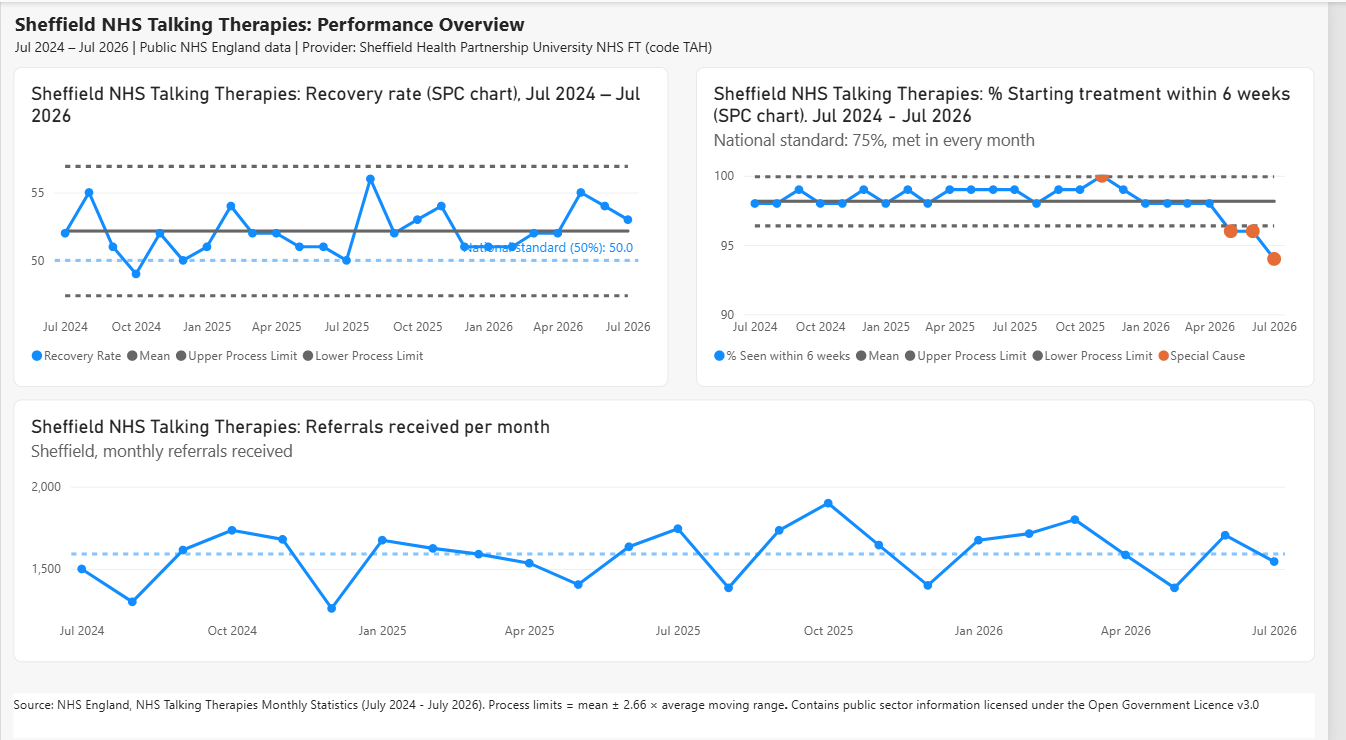

The page's visual inventory and layout, read from the dashboard file:
{"tool":"powerbi","page":{"name":"Dashboard","canvas":[1280,720],"ordinal":0},"visuals":[{"type":"lineChart","title":"Sheffield NHS Talking Therapies: Recovery rate (SPC chart), Jul 2024 – Jul 2026","fields":{"Category":["talkingtherapies KPIs.Reporting_Period_Start"],"Y":["Avg(talkingtherapies KPIs.Percentage_Recovery)","Avg(talkingtherapies KPIs.Recovery_Mean)","Avg(talkingtherapies KPIs.Recovery_UPL)","Avg(talkingtherapies KPIs.Recovery_LPL)"]},"box":[12.1,62.7,632.2,308.8],"z":0},{"type":"textbox","box":[12.1,667.2,1255.9,43.4],"z":1},{"type":"lineChart","title":"Sheffield NHS Talking Therapies: % Starting treatment within 6 weeks (SPC chart). Jul 2024 - Jul 2026","fields":{"Category":["talkingtherapies KPIs.Reporting_Period_Start"],"Y":["Avg(talkingtherapies KPIs.Percentage_AccessingServices6WeeksFinishedCourseTreatment)","Avg(talkingtherapies KPIs.Wait6_Mean)","Avg(talkingtherapies KPIs.Wait6_UPL)","Avg(talkingtherapies KPIs.Wait6_LPL)","Avg(talkingtherapies KPIs.Wait6_SpecialCause)"]},"box":[670.8,62.7,597.2,308.8],"z":2},{"type":"lineChart","title":"Sheffield NHS Talking Therapies: Referrals received per month","fields":{"Category":["talkingtherapies KPIs.Reporting_Period_Start"],"Y":["Avg(talkingtherapies KPIs.Count_ReferralsReceived)"]},"box":[12.1,383.6,1255.9,253.4],"z":3},{"type":"textbox","box":[13.3,8.4,1255.9,65.1],"z":4}]}

Visuals, with their boxes in screenshot pixels (x1, y1, x2, y2), scaled from the page's 1280x720 canvas onto the 1346x740 screenshot:
"Sheffield NHS Talking Therapies: Recovery rate (SPC chart), Jul 2024 – Jul 2026" lineChart: left=13, top=64, right=678, bottom=382
textbox: left=13, top=686, right=1333, bottom=730
"Sheffield NHS Talking Therapies: % Starting treatment within 6 weeks (SPC chart). Jul 2024 - Jul 2026" lineChart: left=705, top=64, right=1333, bottom=382
"Sheffield NHS Talking Therapies: Referrals received per month" lineChart: left=13, top=394, right=1333, bottom=655
textbox: left=14, top=9, right=1335, bottom=76
